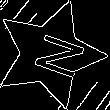N_W: (18, 26, 82, 82)
